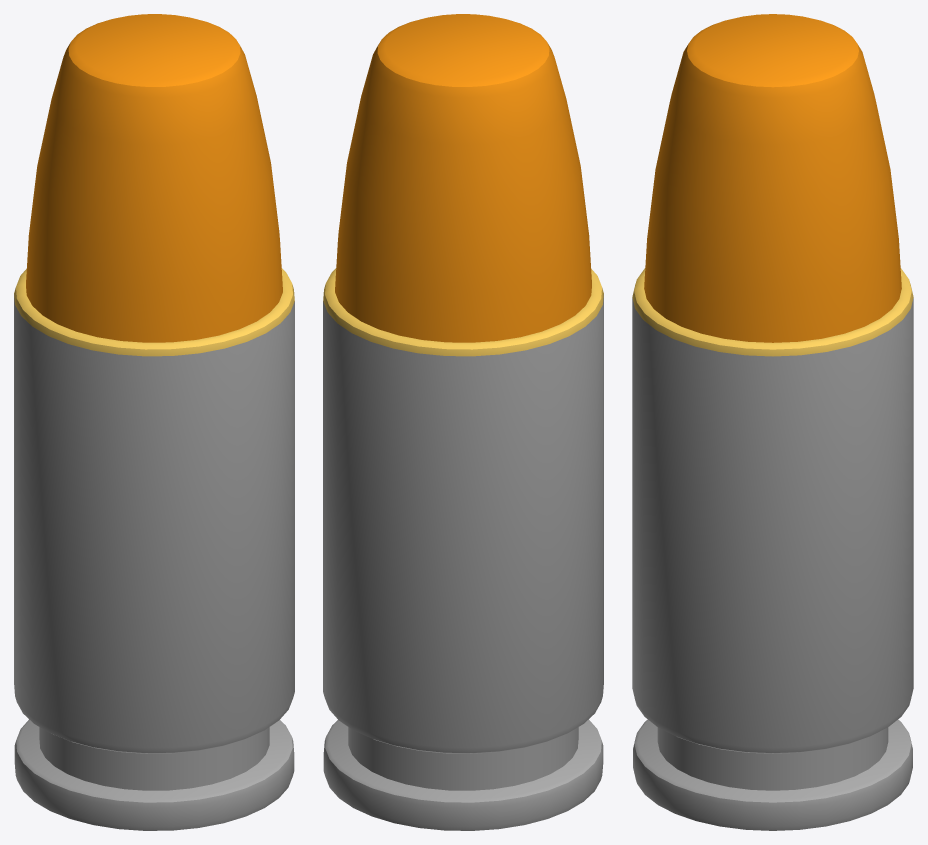
The model's file is bullet_001.fbx.
3 renders of one model, left to right at view 1: azimuth 30°, elevation 25°; view 2: azimuth 150°, elevation 25°; view 3: azimuth 270°, elevation 25°, orthographic.
Visible parts, largest first — view 1: Cylinder.018; view 2: Cylinder.018; view 3: Cylinder.018.
Boxes of the visible parts, x1=… form: Cylinder.018: x1=14, y1=14, x2=294, y2=830; Cylinder.018: x1=323, y1=14, x2=603, y2=830; Cylinder.018: x1=632, y1=14, x2=913, y2=830.
Bounding box in the file's own units: 3.76 × 10.79 × 3.76.
1 material, 1 textured.
